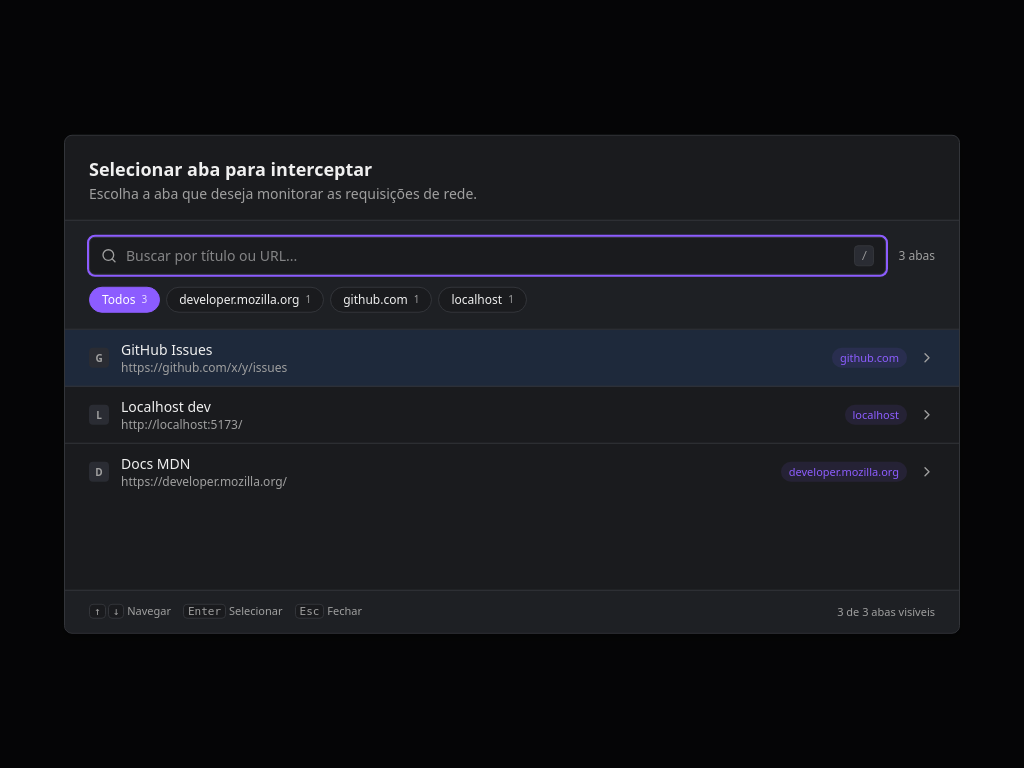
Scenario: SelectTabDialog › digitar na busca filtra a lista; "Limpar busca" reseta
This screenshot has width=1024, height=768.
Expected: the number of options is 3, [65, 330, 959, 387]; [65, 387, 959, 444]; [65, 444, 959, 500]
Type "inexistente" into the search field.
click(488, 256); type("inexistente")  # box [89, 237, 886, 275]
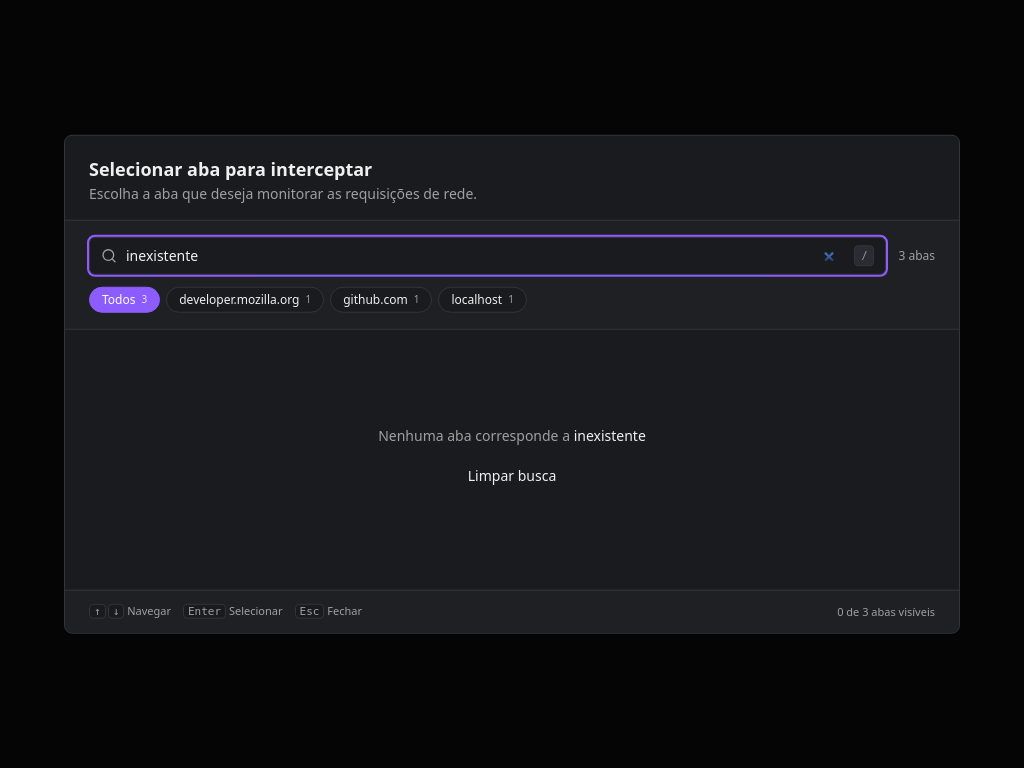
Result: the text "Nenhuma aba corresponde a inexistente" is shown at [378, 426, 646, 446]
Click the button "Limpar busca".
click(512, 476)  # box [456, 458, 568, 494]
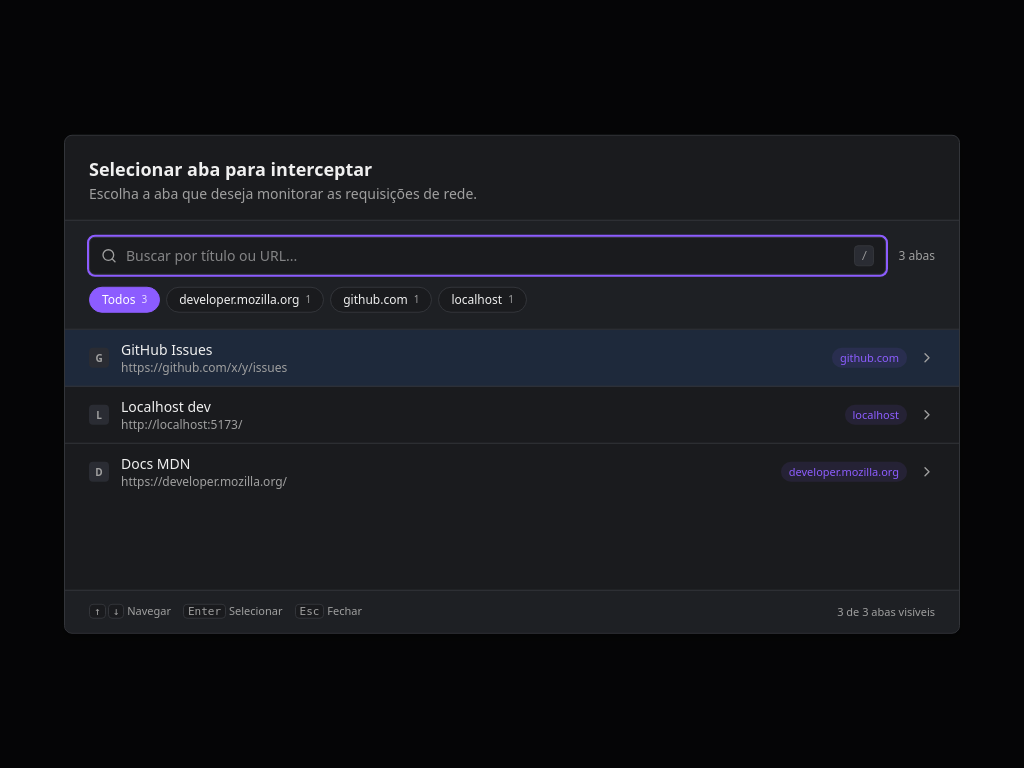
Result: the number of options is 3 at [65, 330, 959, 387]; [65, 387, 959, 444]; [65, 444, 959, 500]
